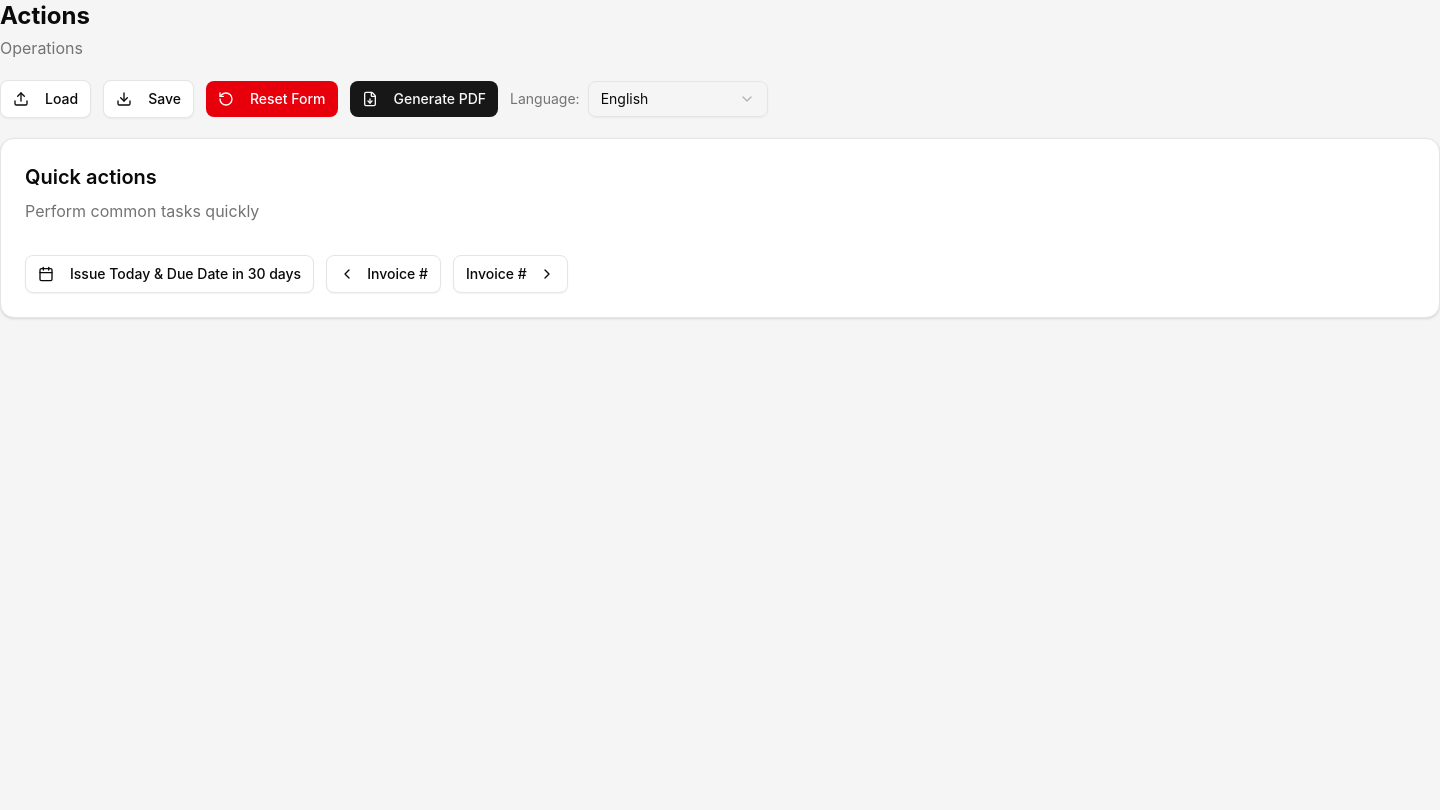
Test: Actions › closes the error dialog when OK is clicked
Step 1. Click the button "Generate PDF" → [424, 99], box [350,81,498,117]
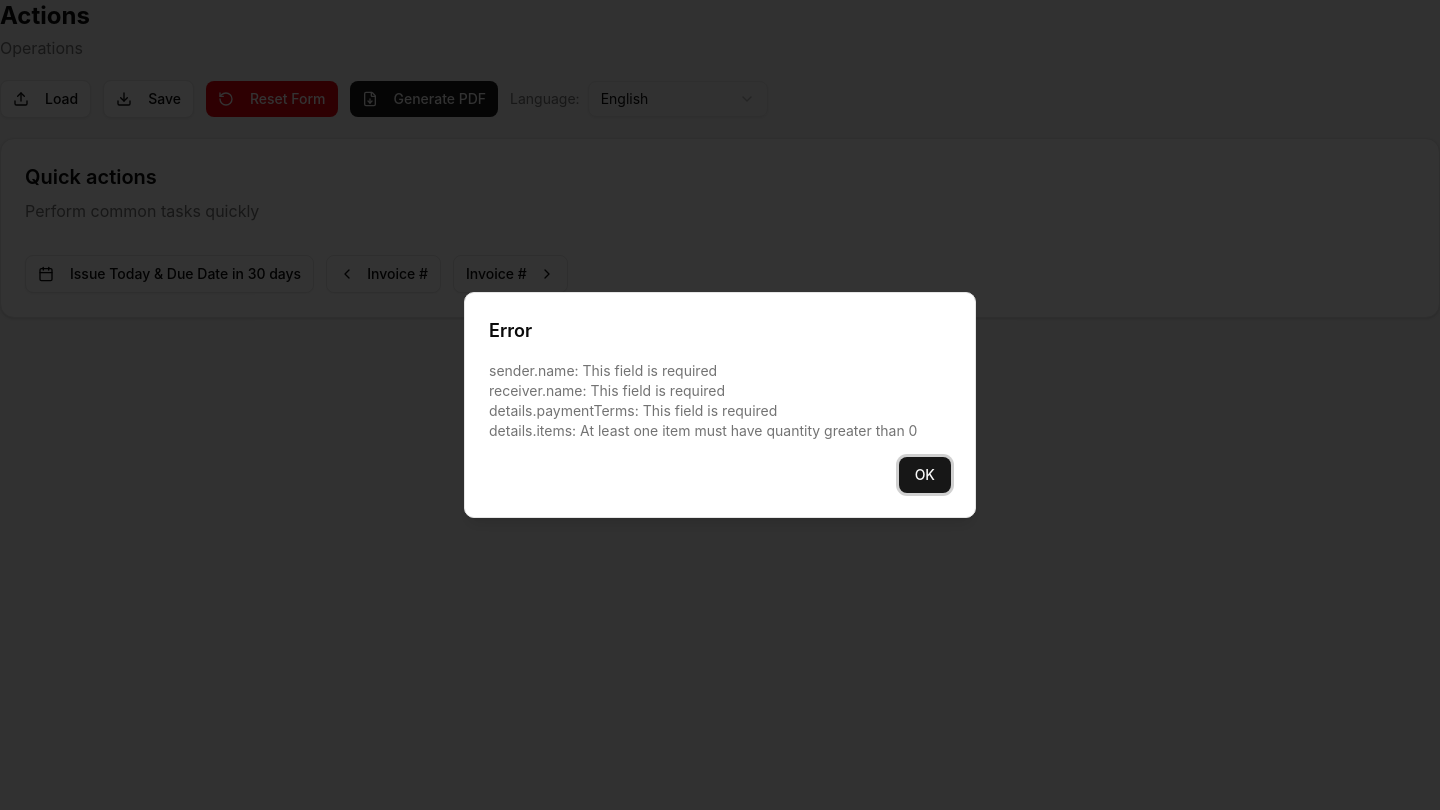
expect the dialog is shown: met, box [464,292,976,518]
Step 2. Click the button "OK" → [925, 475], box [899,457,951,493]
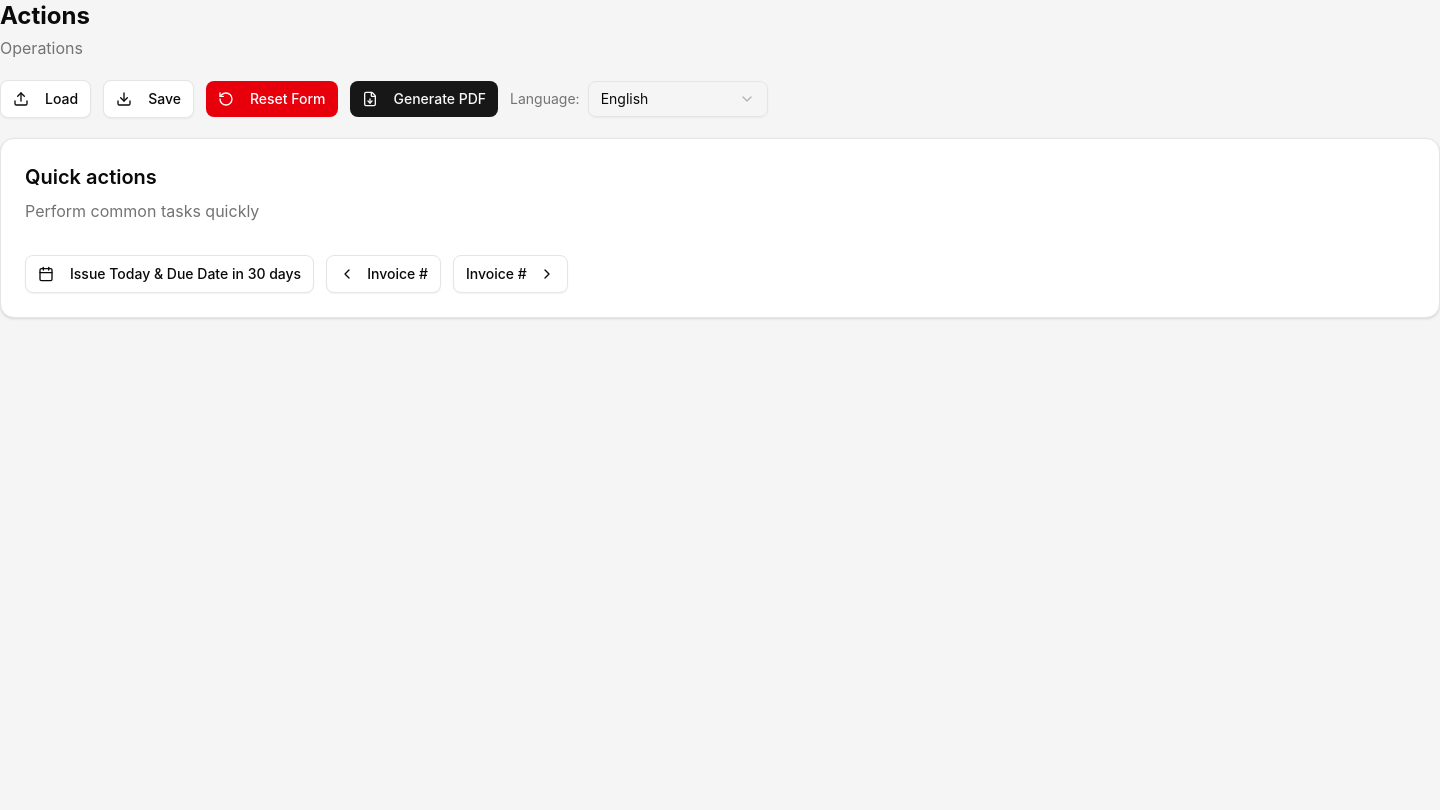
expect the dialog is gone: met
